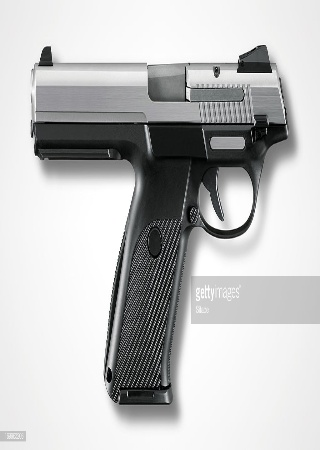handgun: (23, 35, 298, 409)
